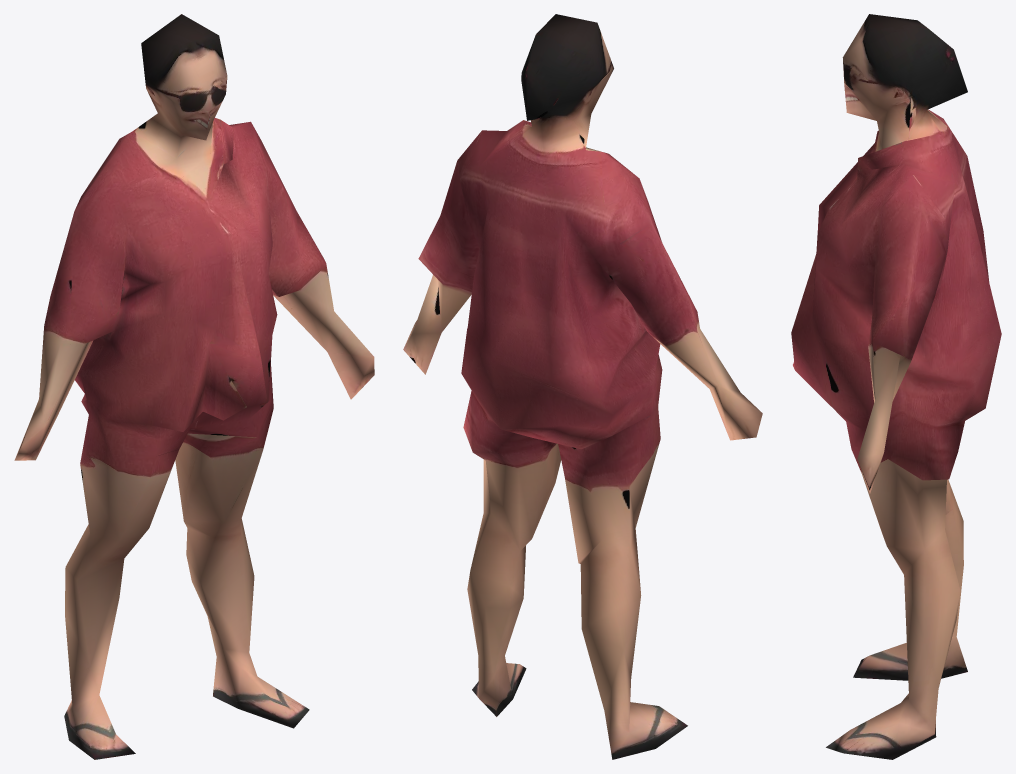
The model's file is PS1Ree.glb.
The picture shows the model from 3 angles, left to right: view 1: azimuth 30°, elevation 25°; view 2: azimuth 150°, elevation 25°; view 3: azimuth 270°, elevation 25°; orthographic projection.
Parts seen in each view (by area): view 1: Mesh1.0; view 2: Mesh1.0; view 3: Mesh1.0.
Part boxes in pixels (<box>): Mesh1.0: <box>14,14,374,759</box>; Mesh1.0: <box>403,14,762,759</box>; Mesh1.0: <box>791,14,1001,759</box>.
Size of the model in its own units: 1.02 by 1.89 by 0.5209.
Materials: 1 (1 with a texture image).
